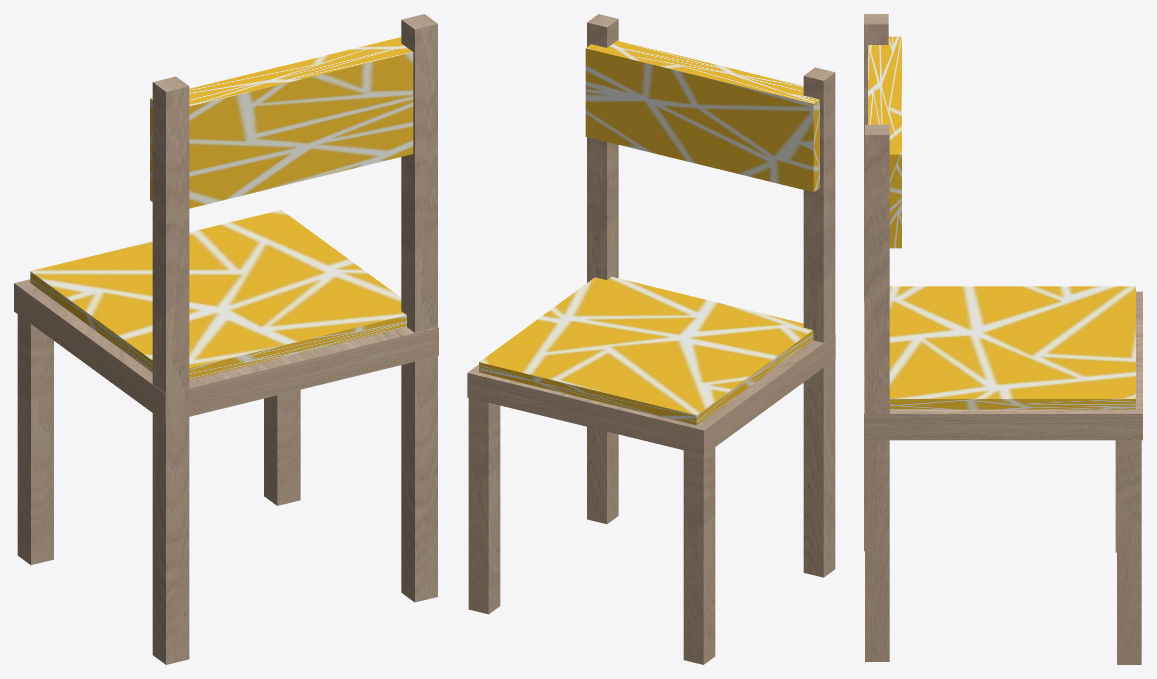
File: silla.gltf
3 renders of one model, left to right at view 1: azimuth 30°, elevation 25°; view 2: azimuth 150°, elevation 25°; view 3: azimuth 270°, elevation 25°, orthographic. The views are drawn at different scales.
Visible parts, largest first — view 1: Cube.006, Cube.005, Cube.002, Cube.001, Cube, Cube.004, Cube.003; view 2: Cube.006, Cube.005, Cube.002, Cube, Cube.001, Cube.004, Cube.003; view 3: Cube.006, Cube.001, Cube, Cube.003, Cube.005, Cube.002.
Boxes of the visible parts, x1,y1,x2,y2 form: Cube.006: (30, 210, 406, 379); Cube.005: (150, 37, 413, 208); Cube.002: (152, 76, 189, 664); Cube.001: (401, 14, 437, 602); Cube: (14, 279, 438, 422); Cube.004: (17, 314, 53, 564); Cube.003: (264, 389, 300, 505); Cube.006: (479, 277, 813, 425); Cube.005: (585, 40, 819, 192); Cube.002: (803, 67, 835, 577); Cube: (467, 334, 835, 454); Cube.001: (587, 14, 618, 524); Cube.004: (683, 447, 715, 664); Cube.003: (468, 398, 500, 614); Cube.006: (889, 286, 1135, 409); Cube.001: (865, 124, 889, 661); Cube: (864, 291, 1142, 440); Cube.003: (1117, 440, 1141, 664); Cube.005: (868, 36, 901, 248); Cube.002: (864, 14, 888, 551).
Bounding box in the file's own units: 2.15 × 4.33 × 2.07.
2 materials, 2 textured.
